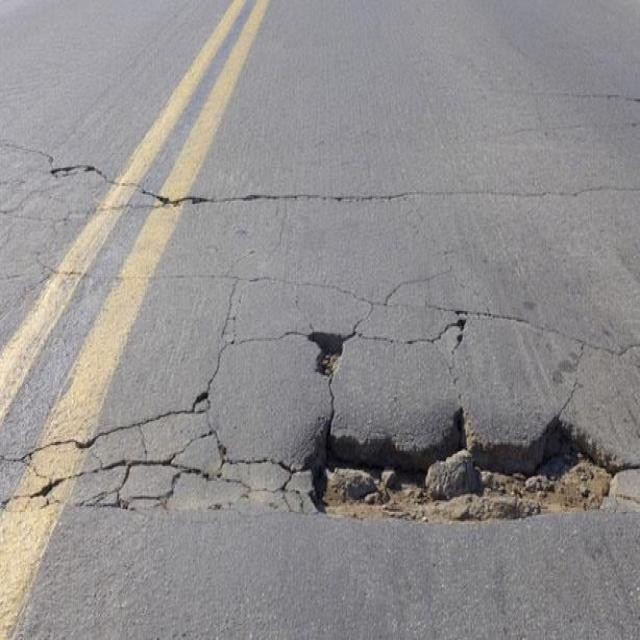p9: (76, 307, 630, 521)
